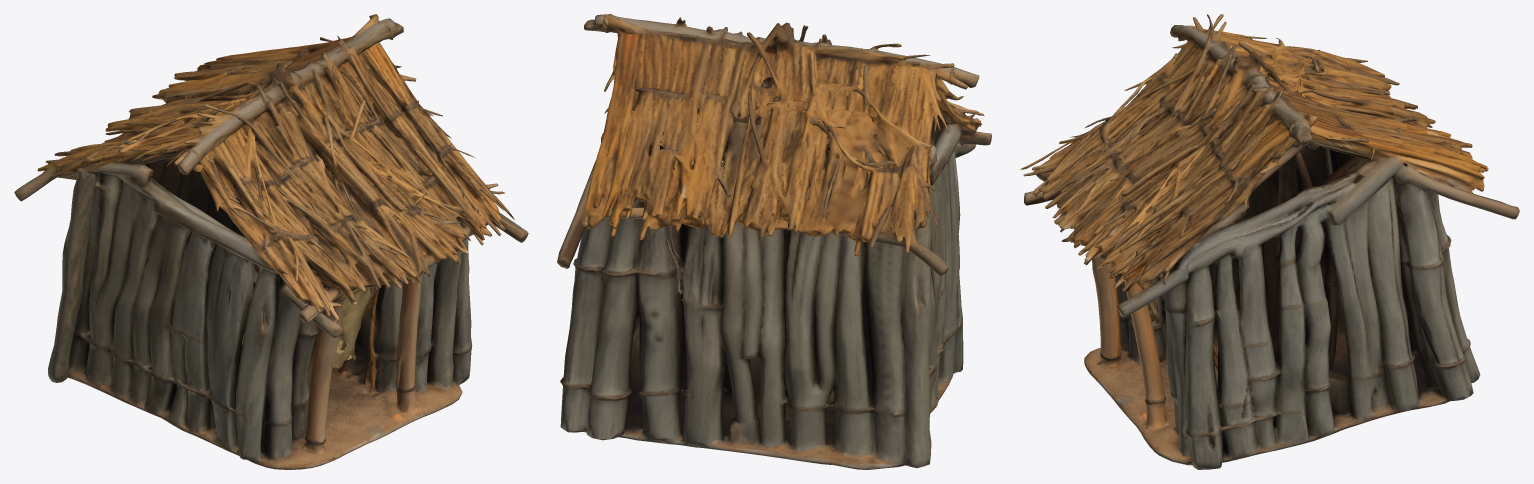
The model's file is hut-straw.glb.
The picture shows the model from 3 angles, left to right: view 1: azimuth 30°, elevation 25°; view 2: azimuth 150°, elevation 25°; view 3: azimuth 270°, elevation 25°; orthographic projection. The views are drawn at different scales.
Bounding box in the file's own units: 0.8731 × 0.7224 × 0.9568.
Materials: 1 (1 with a texture image).
